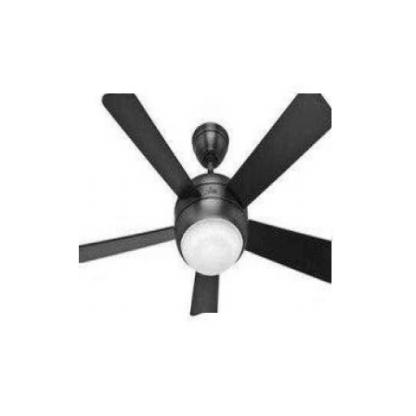ceiling-fan: (79, 93, 332, 314)
